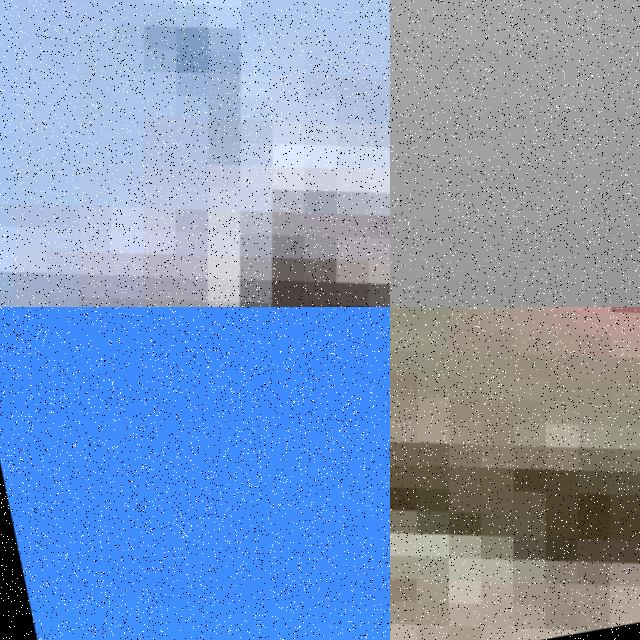drone: (0, 307, 390, 640), (0, 0, 390, 307), (390, 307, 640, 640), (390, 0, 640, 307)
